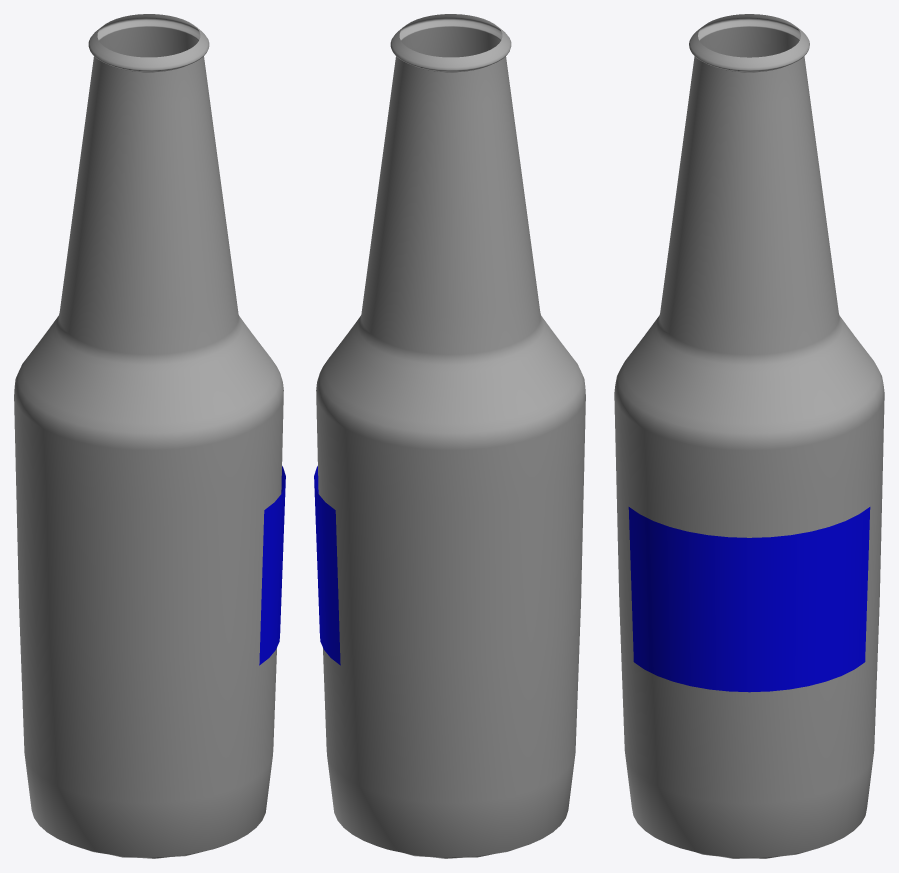
File: bottle.fbx
The picture shows the model from 3 angles, left to right: view 1: azimuth 30°, elevation 25°; view 2: azimuth 150°, elevation 25°; view 3: azimuth 270°, elevation 25°; orthographic projection.
Visible parts, largest first — view 1: bottle; view 2: bottle; view 3: bottle.
Part boxes in pixels (x1=…): bottle: x1=14, y1=14, x2=285, y2=858; bottle: x1=314, y1=14, x2=585, y2=858; bottle: x1=614, y1=14, x2=884, y2=858.
Bounding box in the file's own units: 0.5947 × 1.88 × 0.5896.
